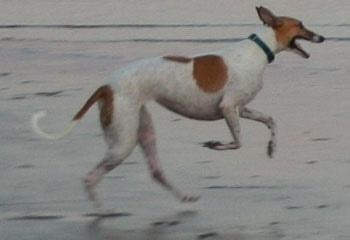dog: (31, 6, 327, 208)
